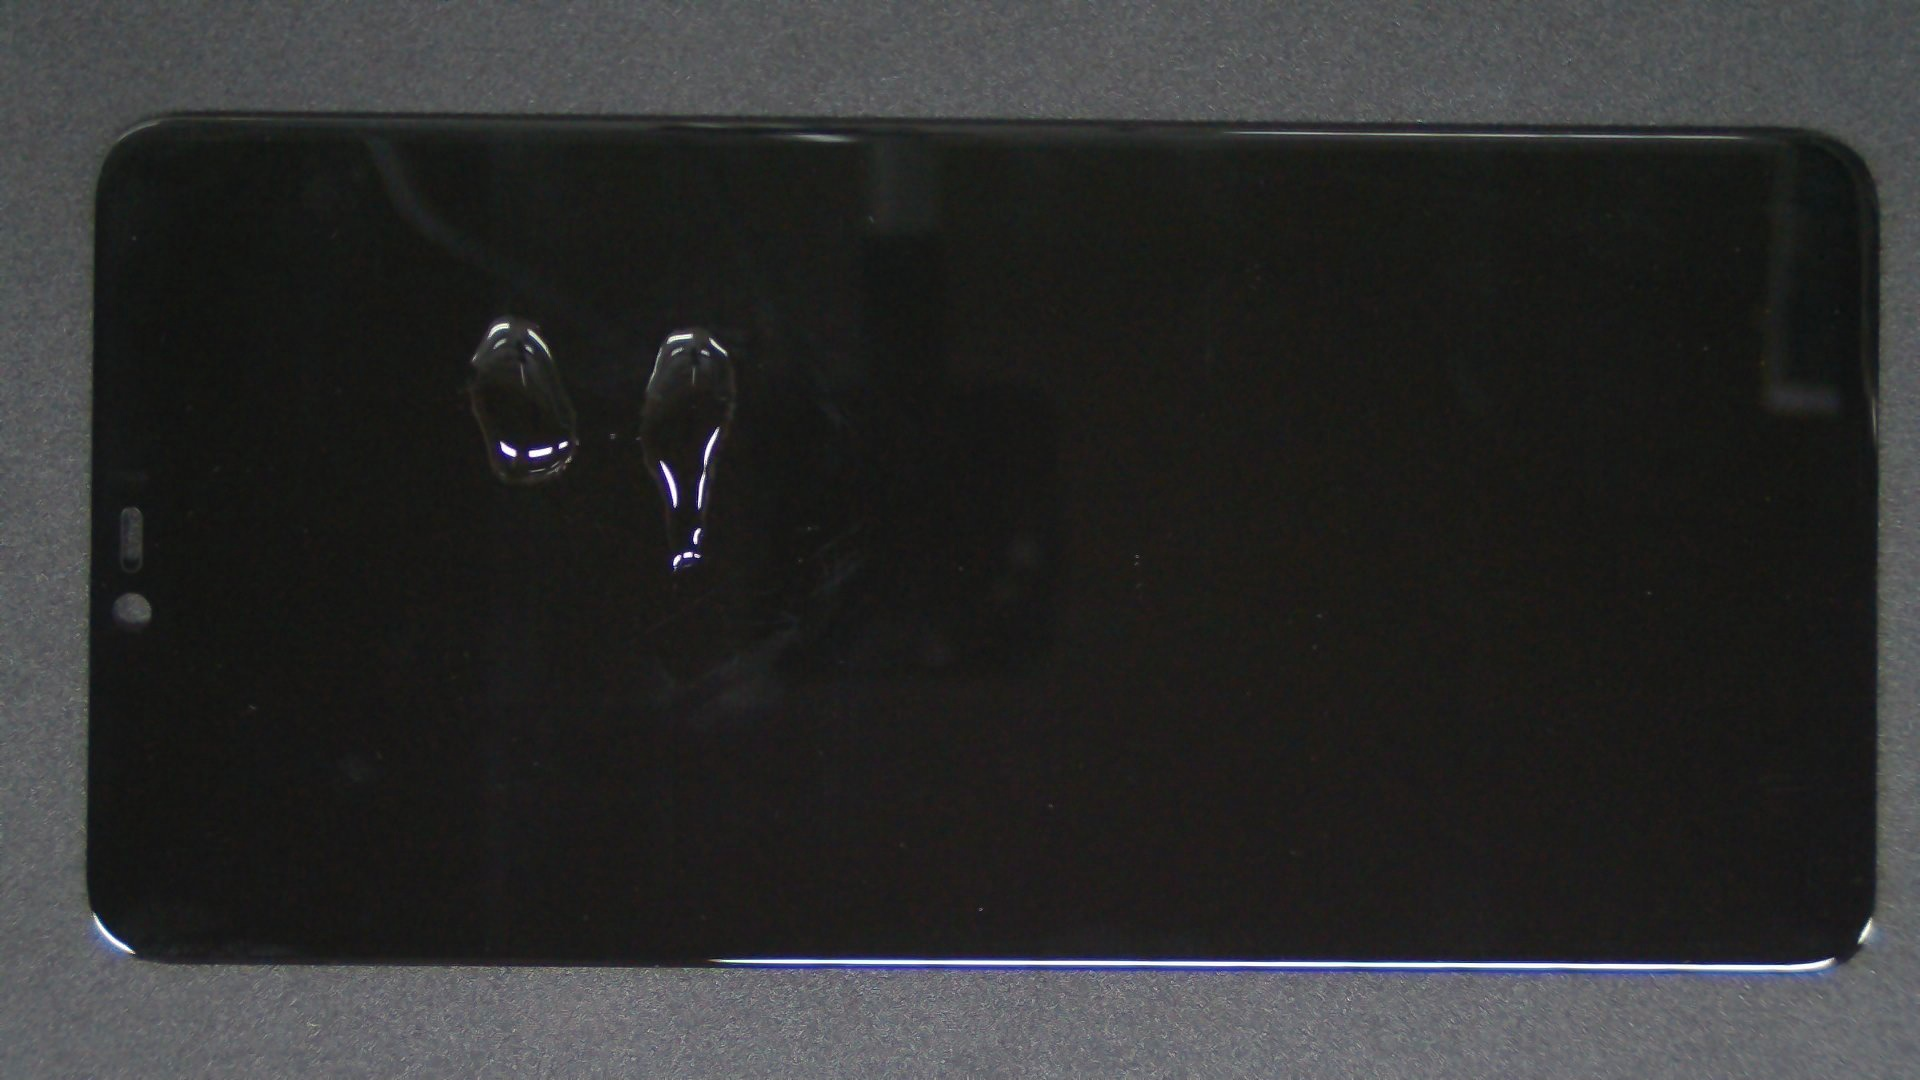oil: (348, 162, 1043, 488), (255, 157, 761, 473)
